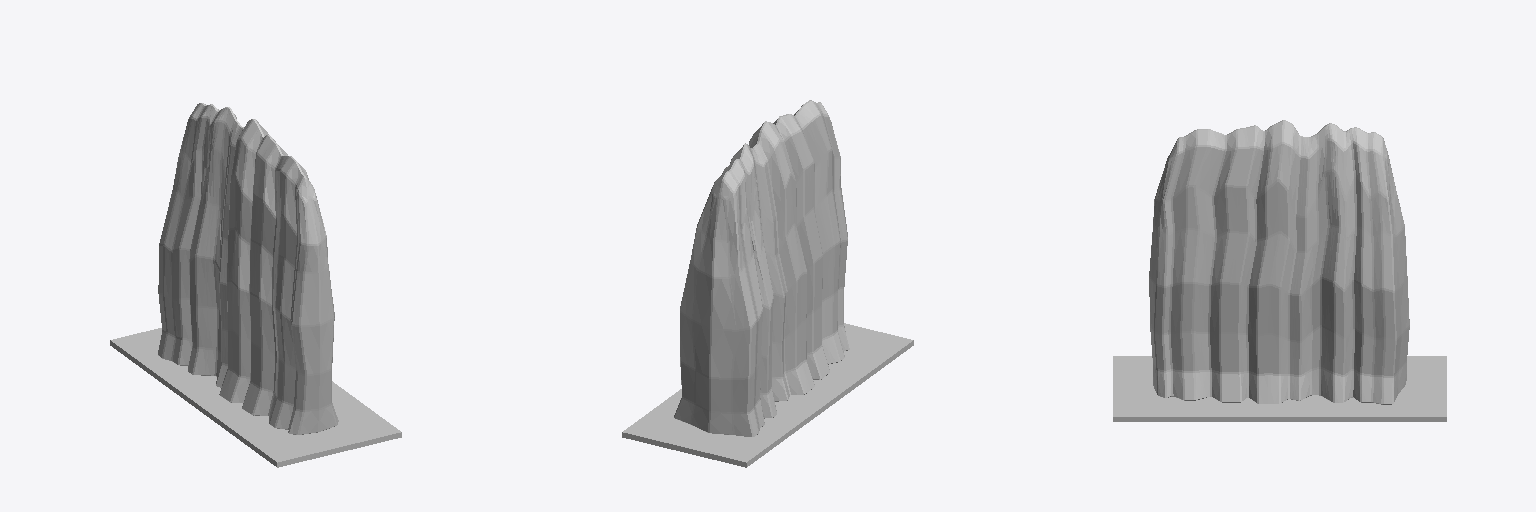
Rendered from IceWallForPrint.obj.
3 renders of one model, left to right at view 1: azimuth 30°, elevation 25°; view 2: azimuth 150°, elevation 25°; view 3: azimuth 270°, elevation 25°, orthographic.
Visible parts, largest first — view 1: Ice, pCube1; view 2: Ice, pCube1; view 3: Ice, pCube1.
Part boxes in pixels (x1,y1,x2,y2): Ice: (158, 103, 338, 434); pCube1: (110, 328, 401, 467); Ice: (674, 100, 849, 436); pCube1: (622, 323, 913, 467); Ice: (1149, 120, 1409, 404); pCube1: (1113, 356, 1446, 421).
Size of the model in its own units: 3.01 by 6.26 by 7.